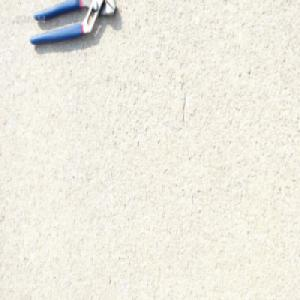Pliers: (28, 0, 118, 48)
